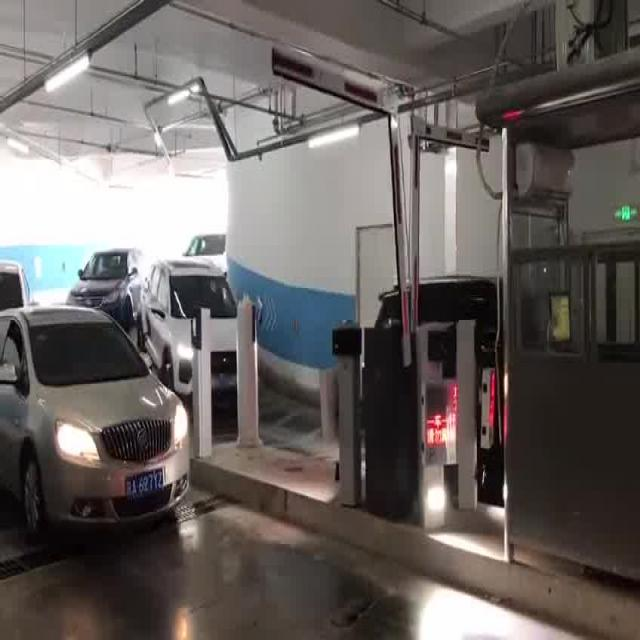CarIn: (370, 272, 531, 417), (53, 225, 154, 360)
GateOpened: (261, 49, 413, 372), (412, 108, 494, 373)
